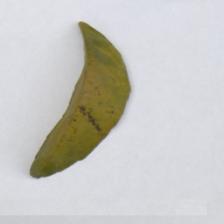greening: (69, 37, 130, 99)
